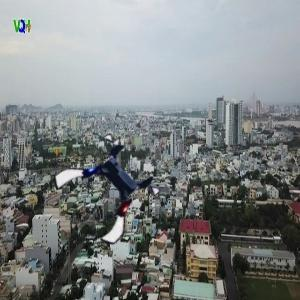drone: (63, 144, 157, 238)
